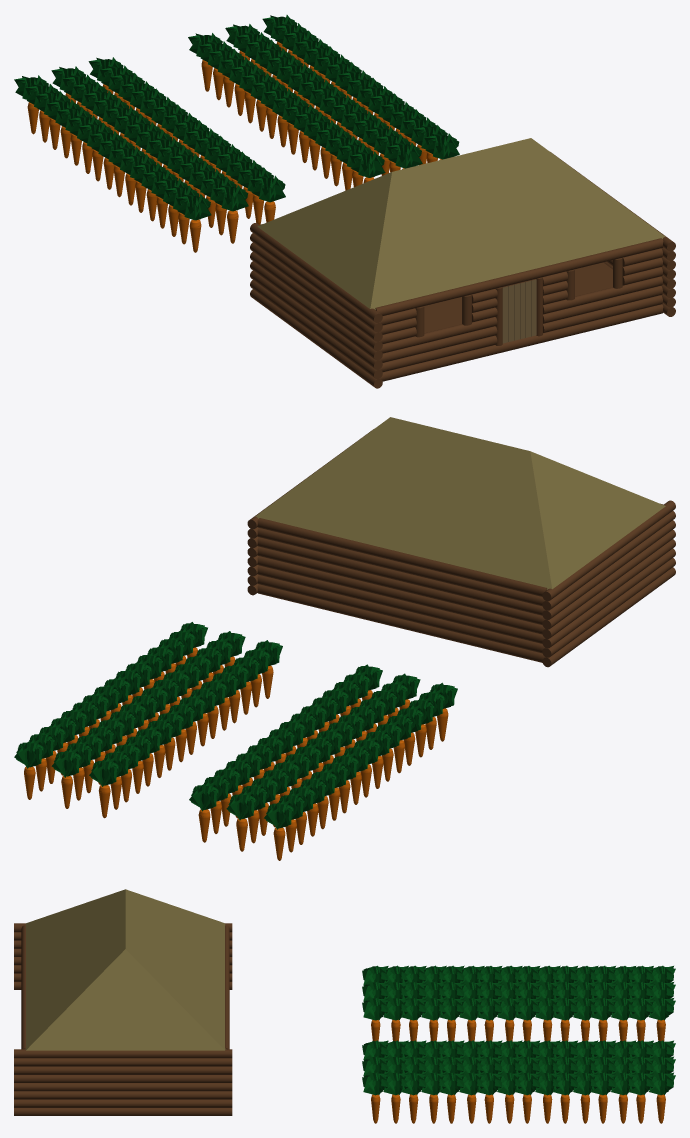
The model's file is FarmColorsFinal.fbx.
3 views of the same model, one above another, from view 1: azimuth 30°, elevation 25°; view 2: azimuth 150°, elevation 25°; view 3: azimuth 270°, elevation 25° (orthographic). The views are drawn at different scales.
Parts seen in each view (by area): view 1: FarmHouse, Farm; view 2: FarmHouse, Farm; view 3: FarmHouse, Farm.
Boxes of the visible parts, bbox=[...] form: FarmHouse: bbox=[250, 138, 675, 388]; Farm: bbox=[14, 15, 459, 252]; FarmHouse: bbox=[247, 417, 675, 667]; Farm: bbox=[14, 622, 457, 860]; FarmHouse: bbox=[14, 889, 232, 1115]; Farm: bbox=[362, 965, 675, 1123].
Bounding box in the file's own units: 2433 × 1319 × 5240.
